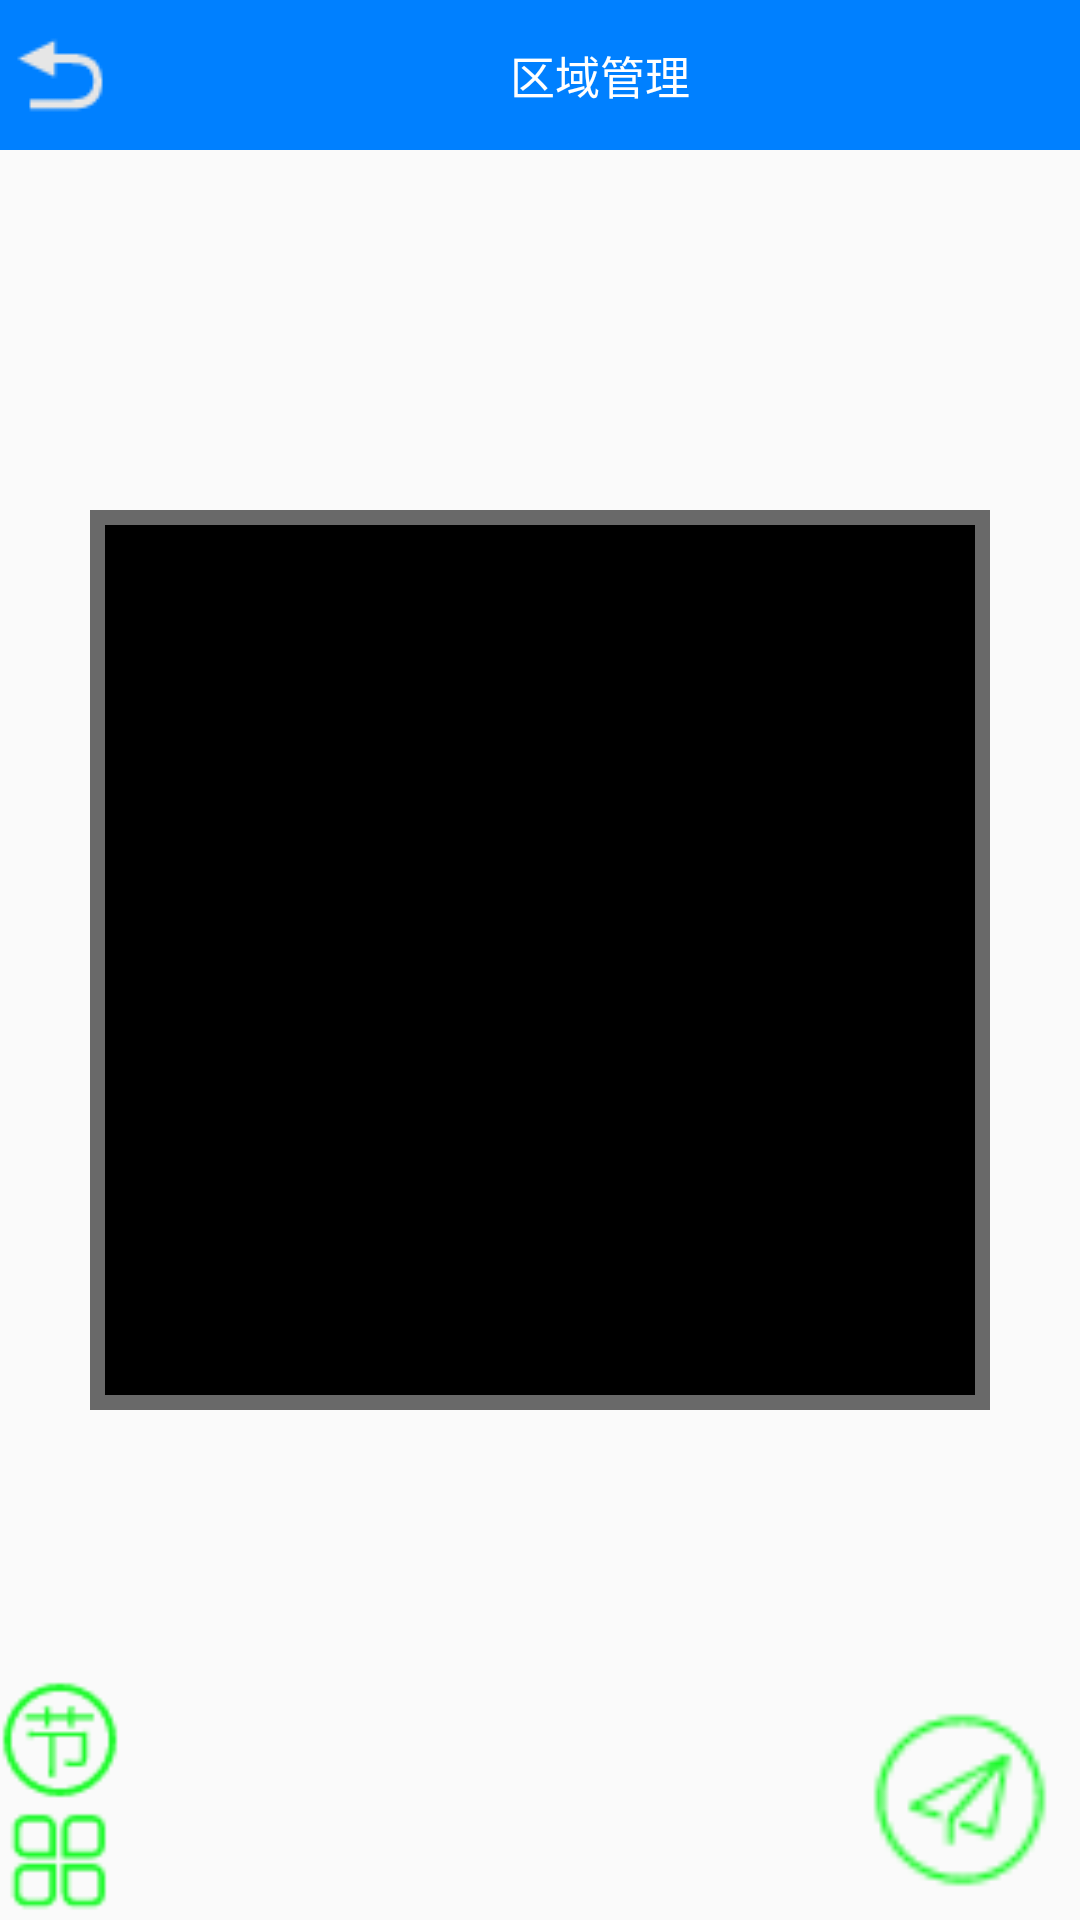

Icon bounding boxes for this 1080px x 1920px phone screenshot, format (x1=x1, y1=y1, x2=x2, y2=y2):
prosend: (x1=874, y1=1714, x2=1046, y2=1886)
return: (x1=17, y1=40, x2=103, y2=111)
